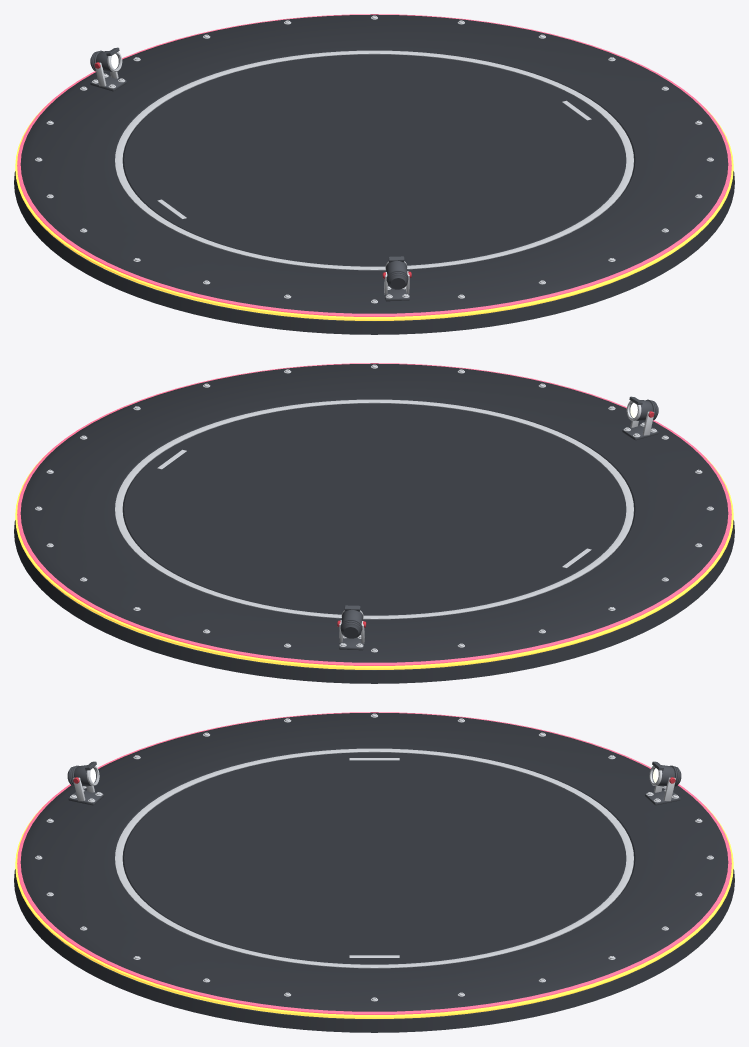
Rendered from paddock_stage.glb.
The picture shows the model from 3 angles, top to bottom: view 1: azimuth 30°, elevation 25°; view 2: azimuth 150°, elevation 25°; view 3: azimuth 270°, elevation 25°; orthographic projection.
Visible parts, largest first — view 1: Paddock_Plinth_Slate, Paddock_Turntable_SeamRing, Paddock_GlowRing_Crimson, Paddock_GlowRing_Amber, Paddock_RadialBolts, Spotlight_Barrel_Right; view 2: Paddock_Plinth_Slate, Paddock_Turntable_SeamRing, Paddock_GlowRing_Crimson, Paddock_GlowRing_Amber, Paddock_RadialBolts, Spotlight_Barrel_Left; view 3: Paddock_Plinth_Slate, Paddock_Turntable_SeamRing, Paddock_GlowRing_Crimson, Paddock_GlowRing_Amber, Paddock_RadialBolts.
Part boxes in pixels (box(x1,y1,x2,y2)): Paddock_Plinth_Slate: box(14, 14, 734, 334); Paddock_Turntable_SeamRing: box(115, 50, 633, 270); Paddock_GlowRing_Crimson: box(17, 14, 731, 316); Paddock_GlowRing_Amber: box(15, 101, 733, 320); Paddock_RadialBolts: box(35, 15, 713, 303); Spotlight_Barrel_Right: box(385, 261, 408, 289); Paddock_Plinth_Slate: box(14, 363, 734, 683); Paddock_Turntable_SeamRing: box(115, 399, 633, 619); Paddock_GlowRing_Crimson: box(17, 363, 731, 665); Paddock_GlowRing_Amber: box(15, 450, 733, 669); Paddock_RadialBolts: box(35, 364, 713, 652); Spotlight_Barrel_Left: box(340, 610, 363, 638); Paddock_Plinth_Slate: box(14, 712, 734, 1032); Paddock_Turntable_SeamRing: box(115, 748, 633, 968); Paddock_GlowRing_Crimson: box(17, 712, 731, 1014); Paddock_GlowRing_Amber: box(15, 799, 733, 1018); Paddock_RadialBolts: box(35, 713, 713, 1001).
Bounding box in the file's own units: 3.44 × 0.3358 × 3.44.
